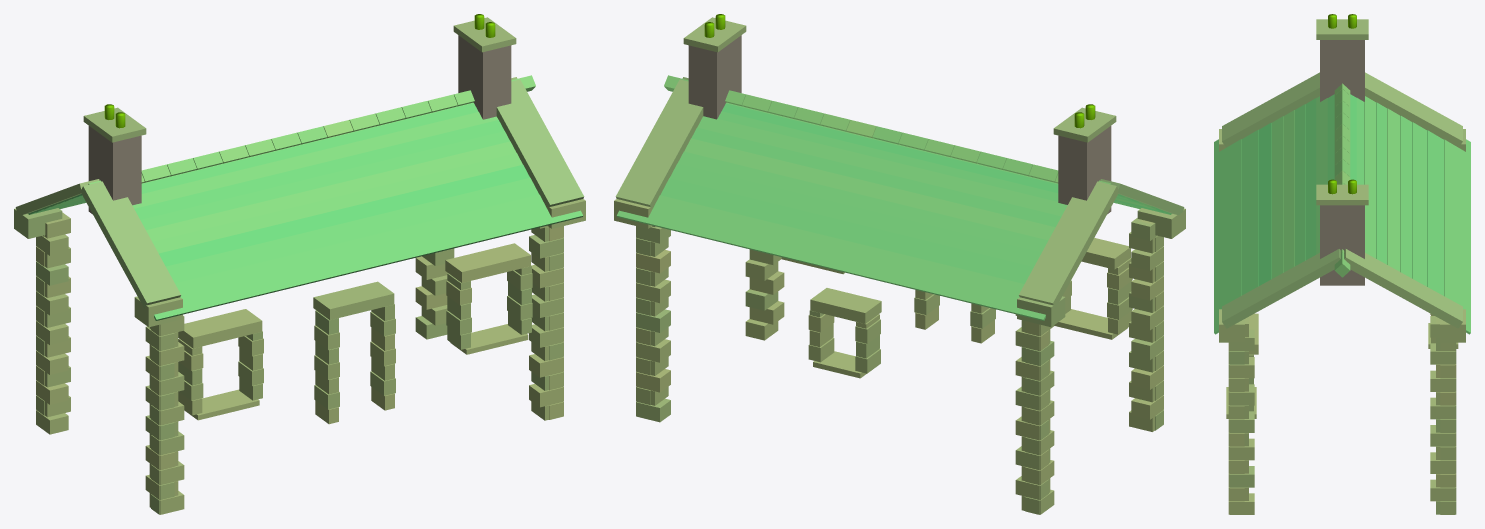
The model's file is SM_Bld_085_Stone.glb.
3 views of the same model, side by side, from view 1: azimuth 30°, elevation 25°; view 2: azimuth 150°, elevation 25°; view 3: azimuth 270°, elevation 25° (orthographic). The views are drawn at different scales.
Parts seen in each view (by area): view 1: SM_Bld_085_Stone; view 2: SM_Bld_085_Stone; view 3: SM_Bld_085_Stone.
Boxes of the visible parts, x1,y1,x2,y2 form: SM_Bld_085_Stone: (14, 14, 585, 514); SM_Bld_085_Stone: (614, 14, 1185, 514); SM_Bld_085_Stone: (1214, 14, 1470, 514).
Size of the model in its own units: 9.5 by 7.16 by 5.11.
